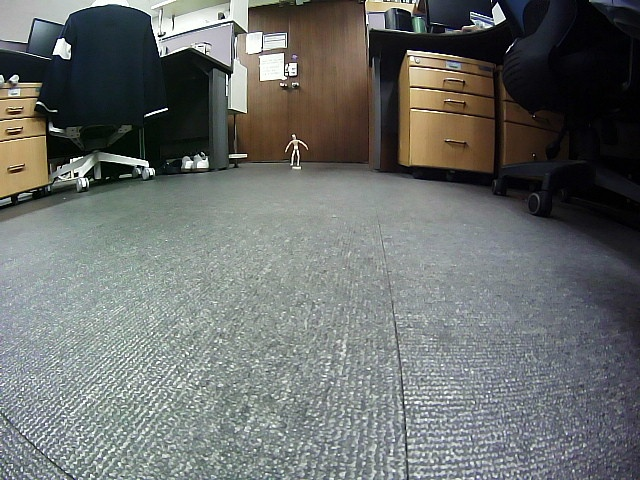person: (285, 133, 308, 167)
